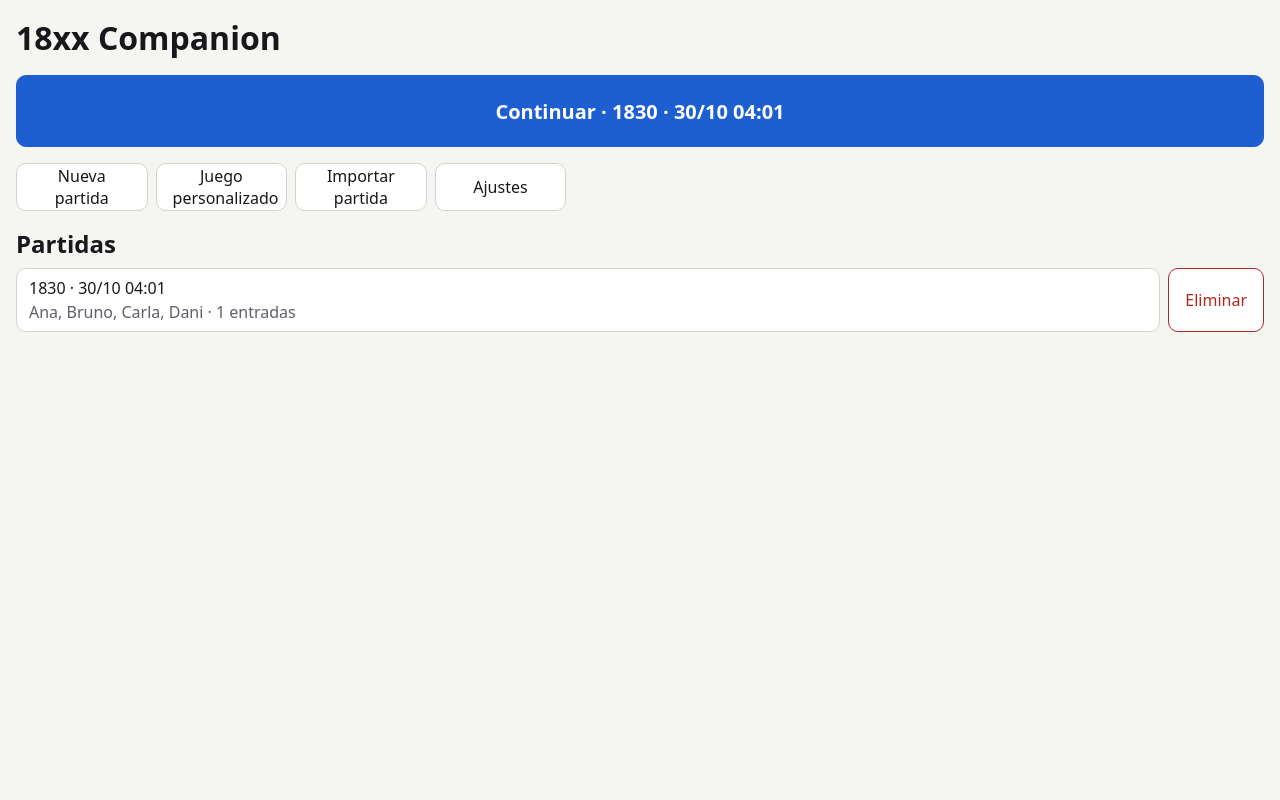
Test: the results table (US1, FR-007–FR-009, FR-013) › columns Puesto, Jugador, Dinero, Acciones, Total; a four-way tie is =1 for everyone, all winners
What coordinates should you click on to do the following:
click the button "Continuar · 1830 · 30/10 04:01"
I would click on:
 (640, 111)
Its box is top-left (16, 75), bottom-right (1264, 147).
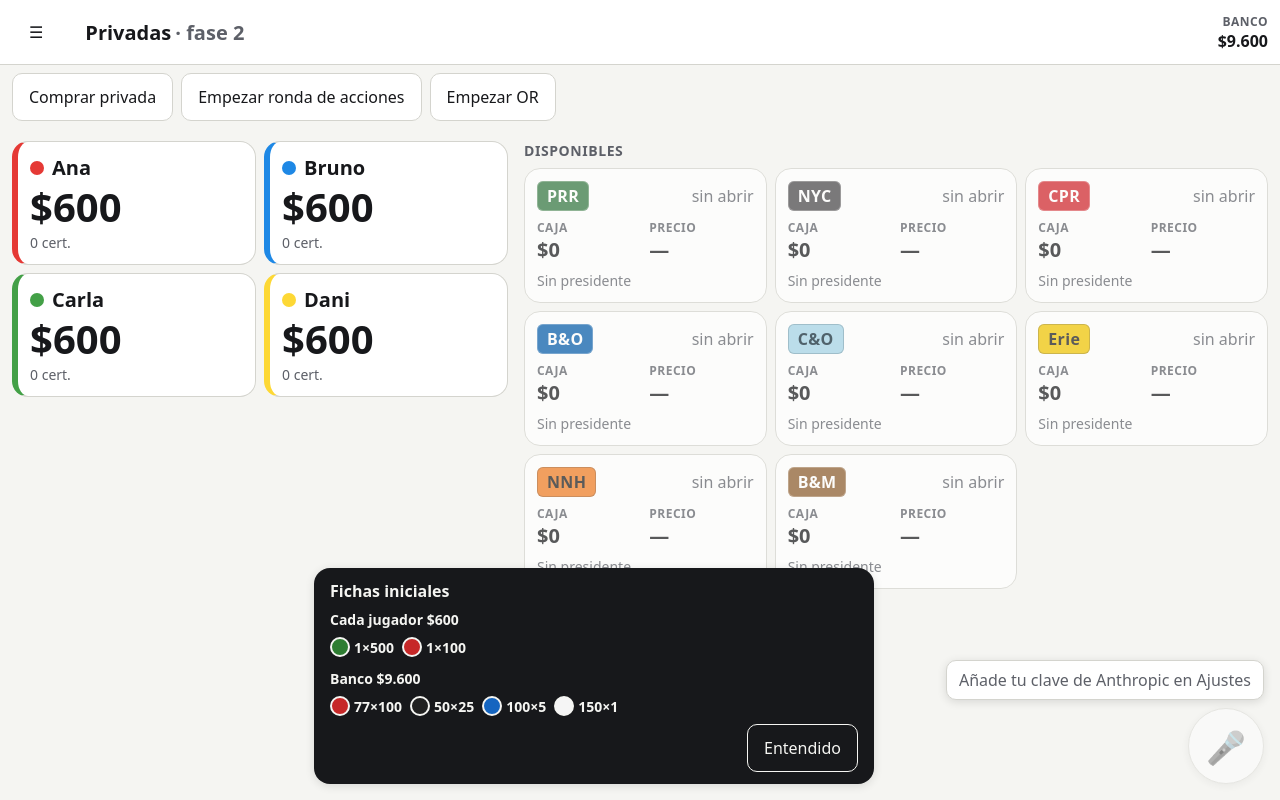
Now the button named "Menú" is shown
What coordinates should you click on to do the following:
click the button named "Menú"
I would click on:
 (36, 32)
Its box is top-left (12, 8), bottom-right (60, 56).
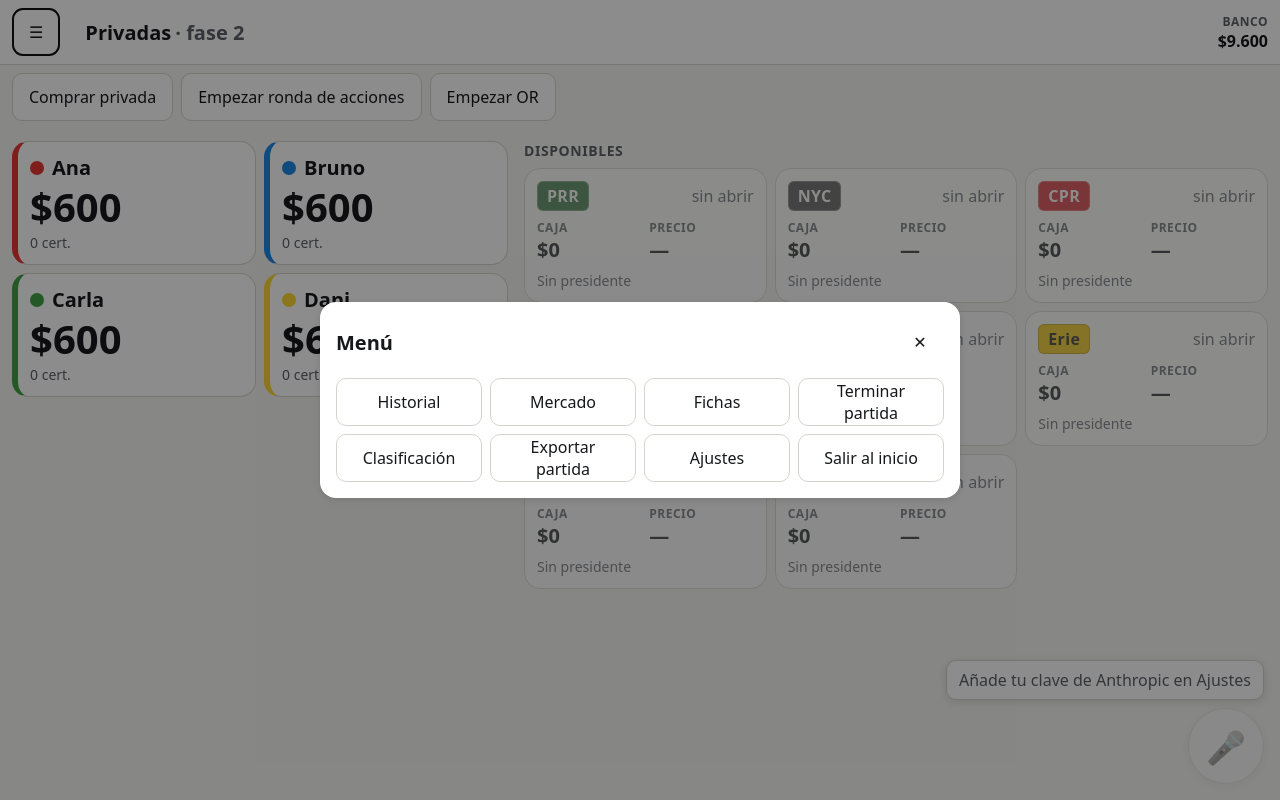
What coordinates should you click on to do the following:
click the button "Terminar partida"
I would click on:
 (871, 402)
Its box is top-left (798, 378), bottom-right (944, 426).
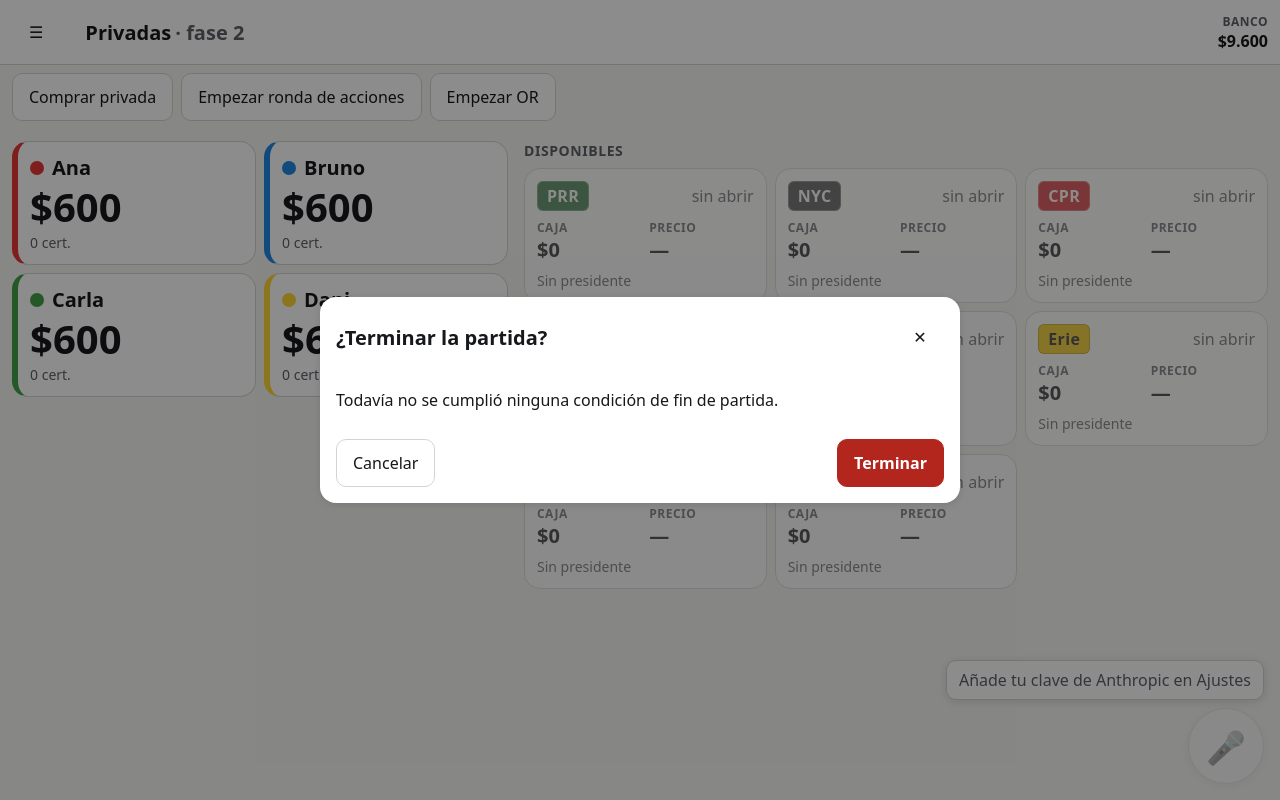
What coordinates should you click on to do the following:
click the button "Terminar"
I would click on:
 (891, 463)
Its box is top-left (837, 439), bottom-right (944, 487).
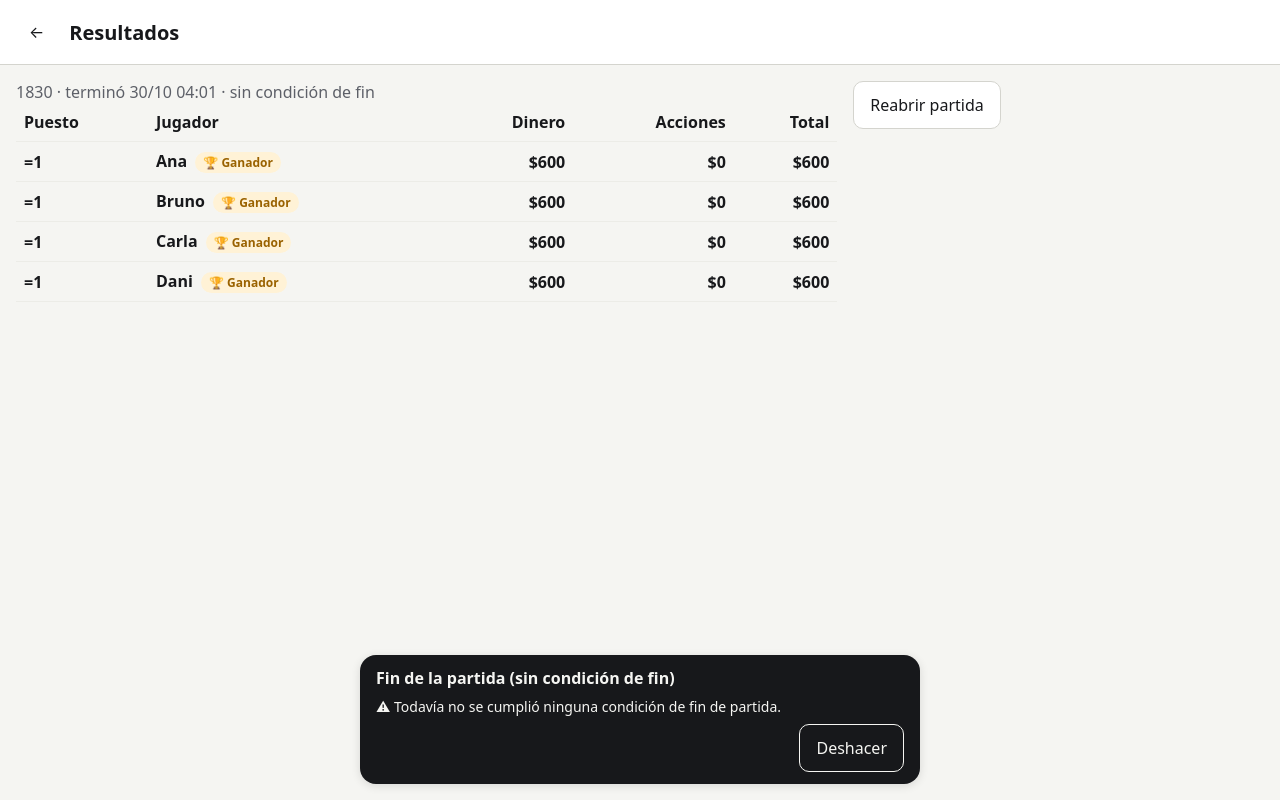
Now the column headings read "Puesto", "Jugador", "Dinero", "Acciones", "Total", in this order, box top-left (16, 103), bottom-right (148, 142); top-left (148, 103), bottom-right (444, 142); top-left (444, 103), bottom-right (573, 142); top-left (573, 103), bottom-right (734, 142); top-left (734, 103), bottom-right (837, 142)
Now the 1st text "🏆 Ganador" is shown, box top-left (195, 152), bottom-right (281, 173)
Now the text "🏆 Ganador" next to "Bruno" is shown, box top-left (221, 194), bottom-right (291, 211)
